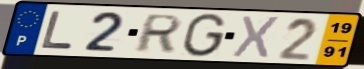2: (275, 17, 321, 62), (80, 11, 126, 54)
G: (179, 12, 228, 59)
L: (39, 9, 77, 50)
R: (131, 13, 185, 54)
X: (229, 14, 283, 61)
